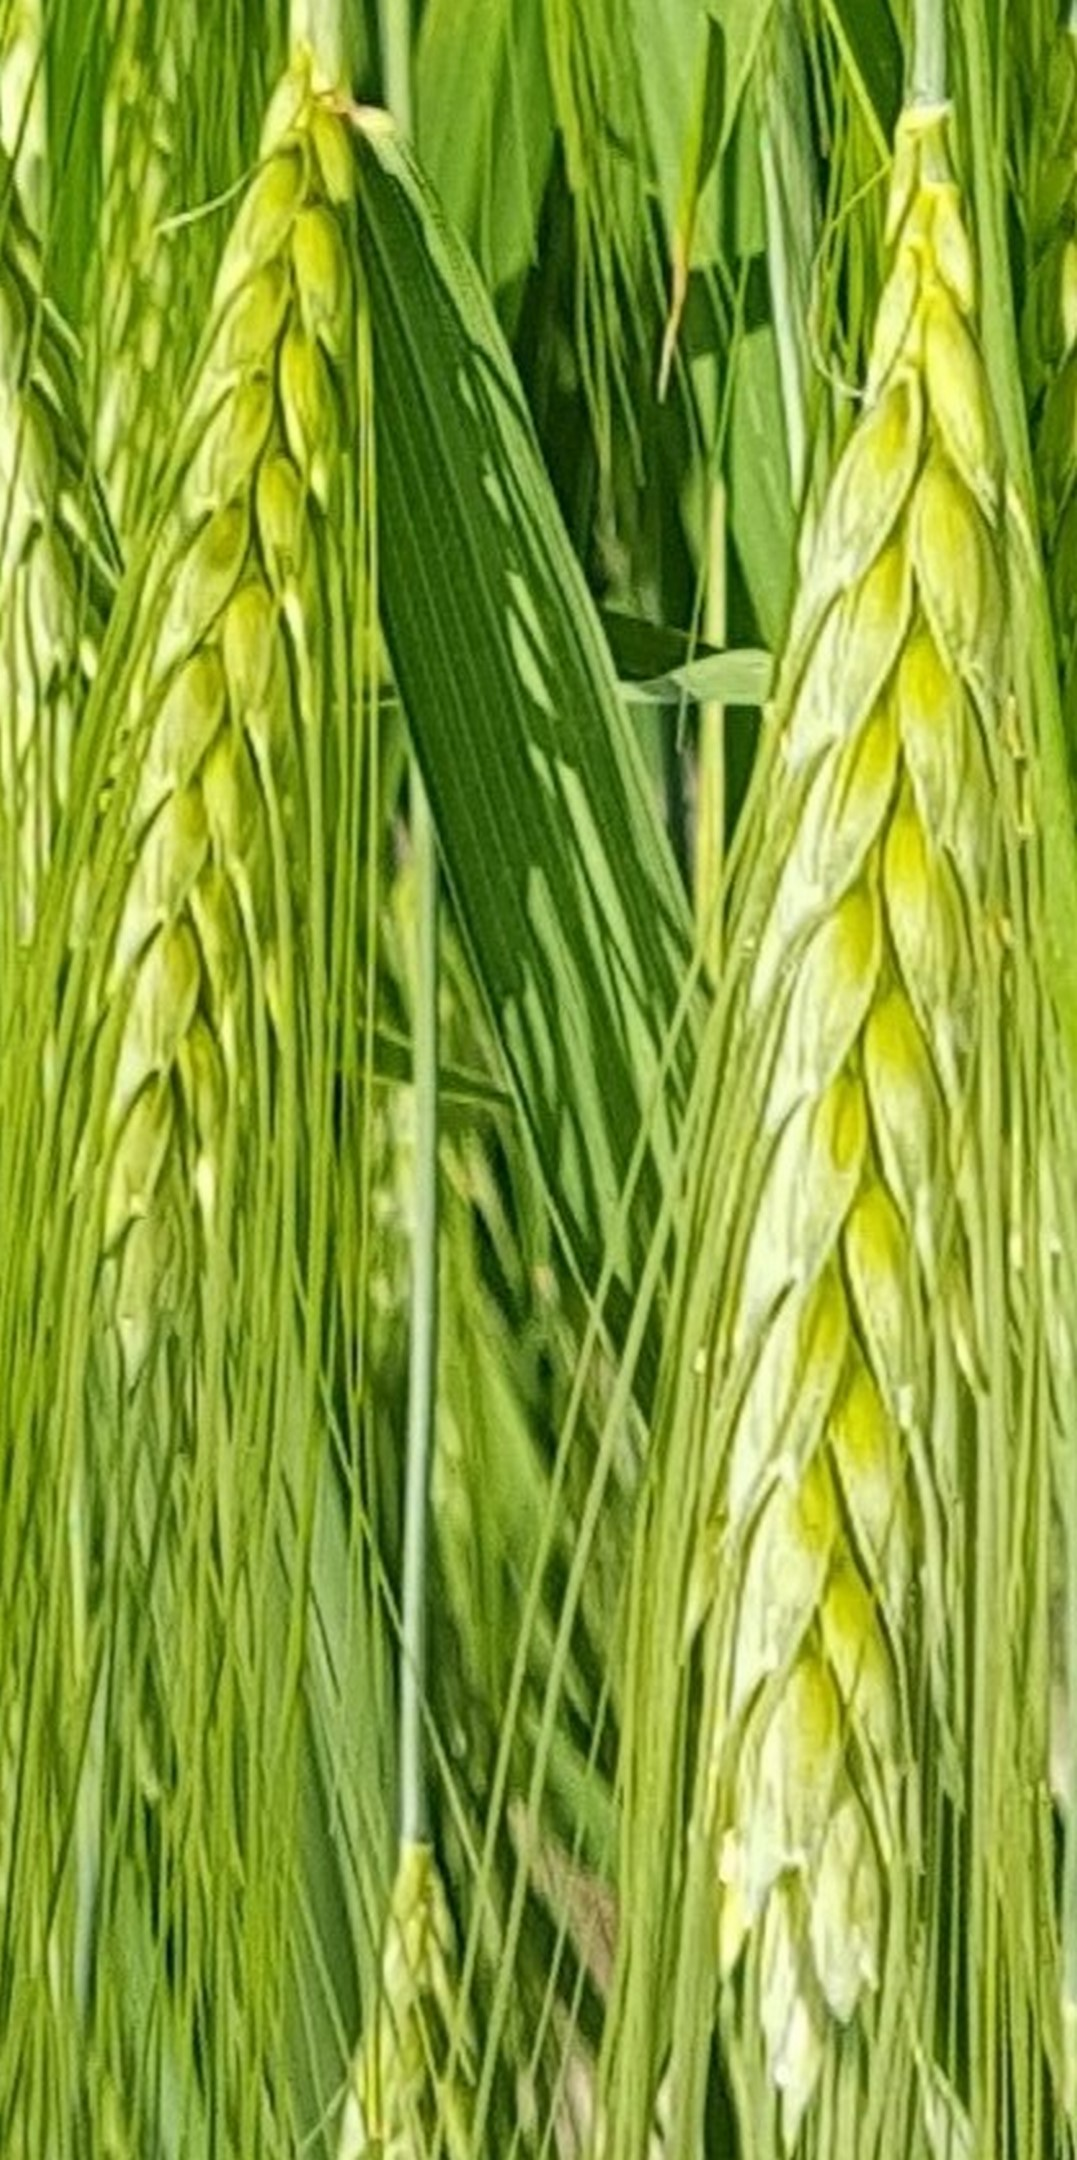Healthy Wheat: (625, 209, 1067, 2064), (58, 107, 441, 1360)
